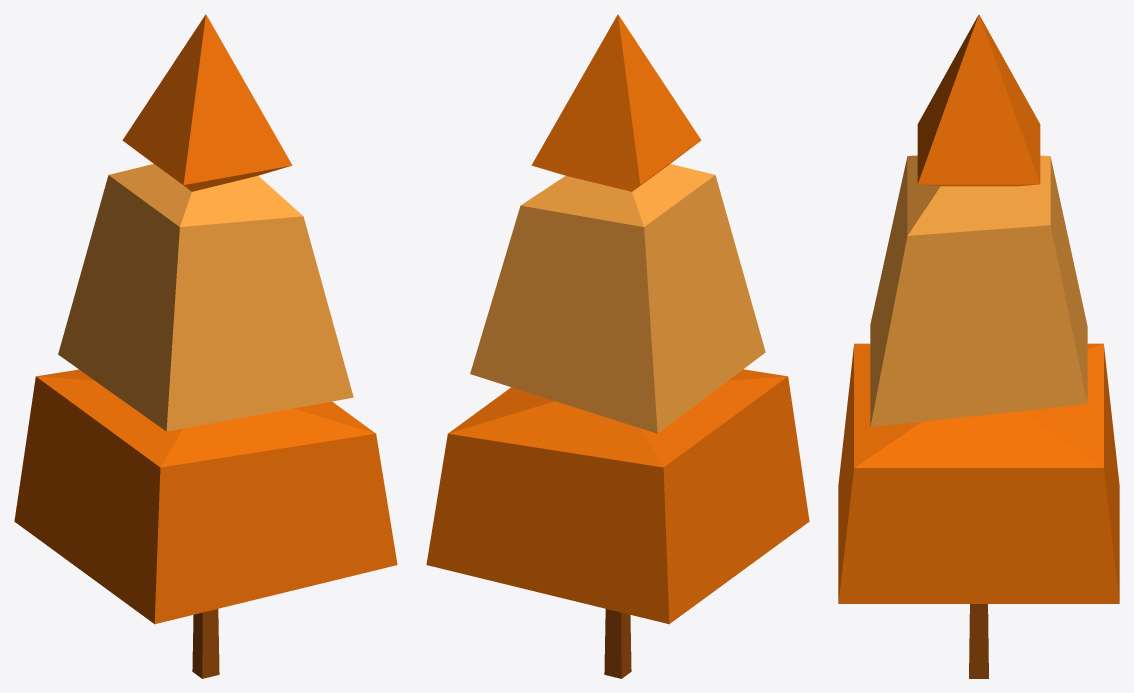
Rendered from Tree_37_Fall.fbx.
3 renders of one model, left to right at view 1: azimuth 30°, elevation 25°; view 2: azimuth 150°, elevation 25°; view 3: azimuth 270°, elevation 25°, orthographic.
Visible parts, largest first — view 1: Tree_37_Fall; view 2: Tree_37_Fall; view 3: Tree_37_Fall.
Boxes of the visible parts, <box> form: Tree_37_Fall: <box>14,14,397,678</box>; Tree_37_Fall: <box>426,14,809,678</box>; Tree_37_Fall: <box>838,14,1119,678</box>.
Size of the model in its own units: 200 by 519 by 200.
